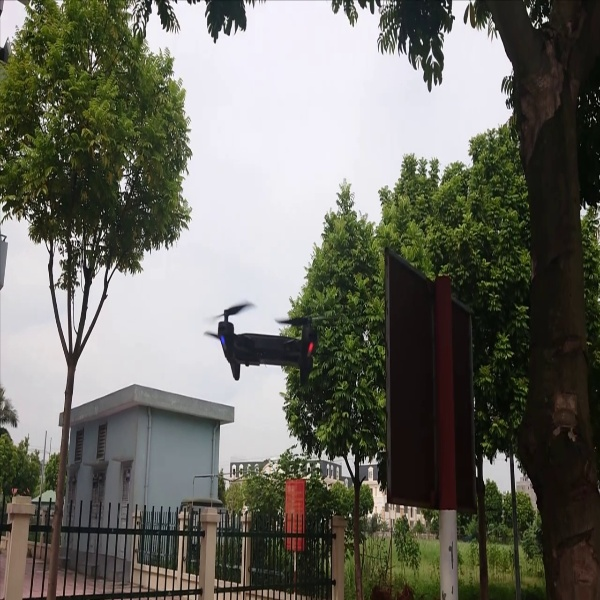drone: (200, 298, 327, 388)
